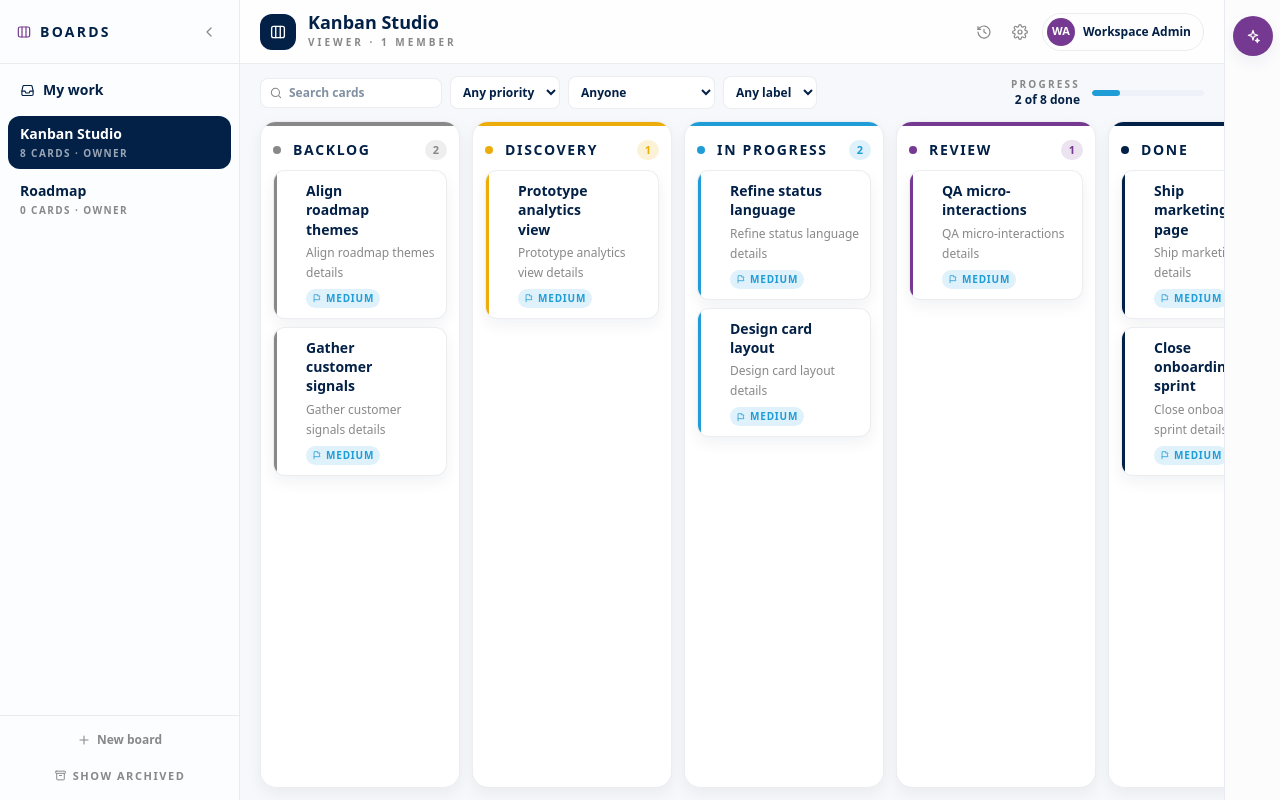
Board settings › offers view-only members a way to leave instead of managing
This screenshot has width=1280, height=800.
Click the button named "board settings" at (1020, 32), box [1006, 18, 1034, 46]
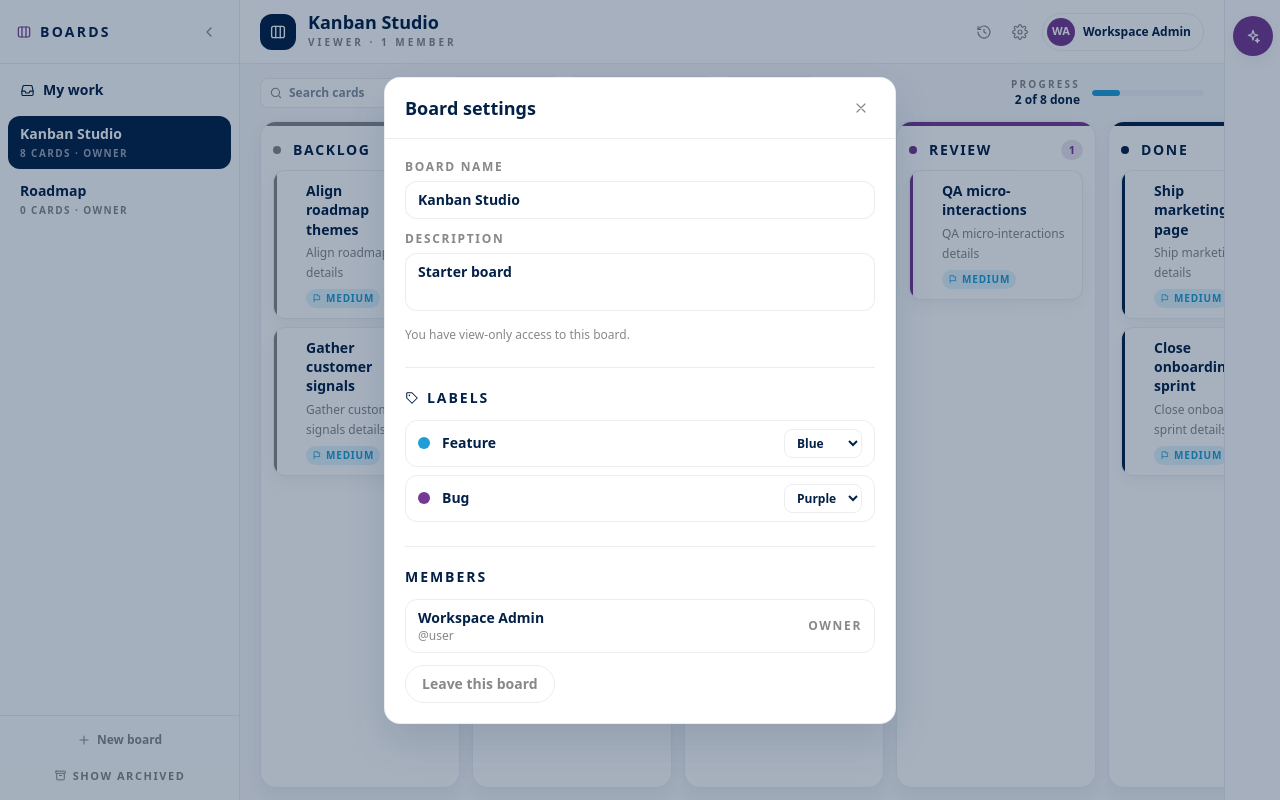
Result: the button "Leave this board" is shown at [405, 664, 555, 702]
